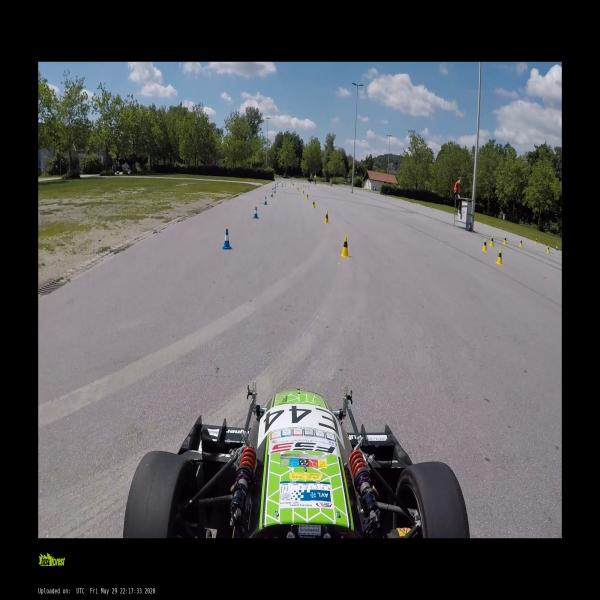blue_cone: (222, 228, 232, 250), (253, 207, 258, 219), (263, 197, 267, 205), (554, 246, 558, 252)
yellow_cone: (340, 236, 350, 258), (496, 248, 503, 266), (482, 239, 487, 252), (324, 211, 329, 224), (489, 236, 494, 247), (518, 239, 523, 249), (545, 245, 550, 254), (502, 235, 506, 245), (305, 193, 309, 200), (312, 200, 315, 209), (534, 238, 537, 245), (302, 190, 305, 196)
